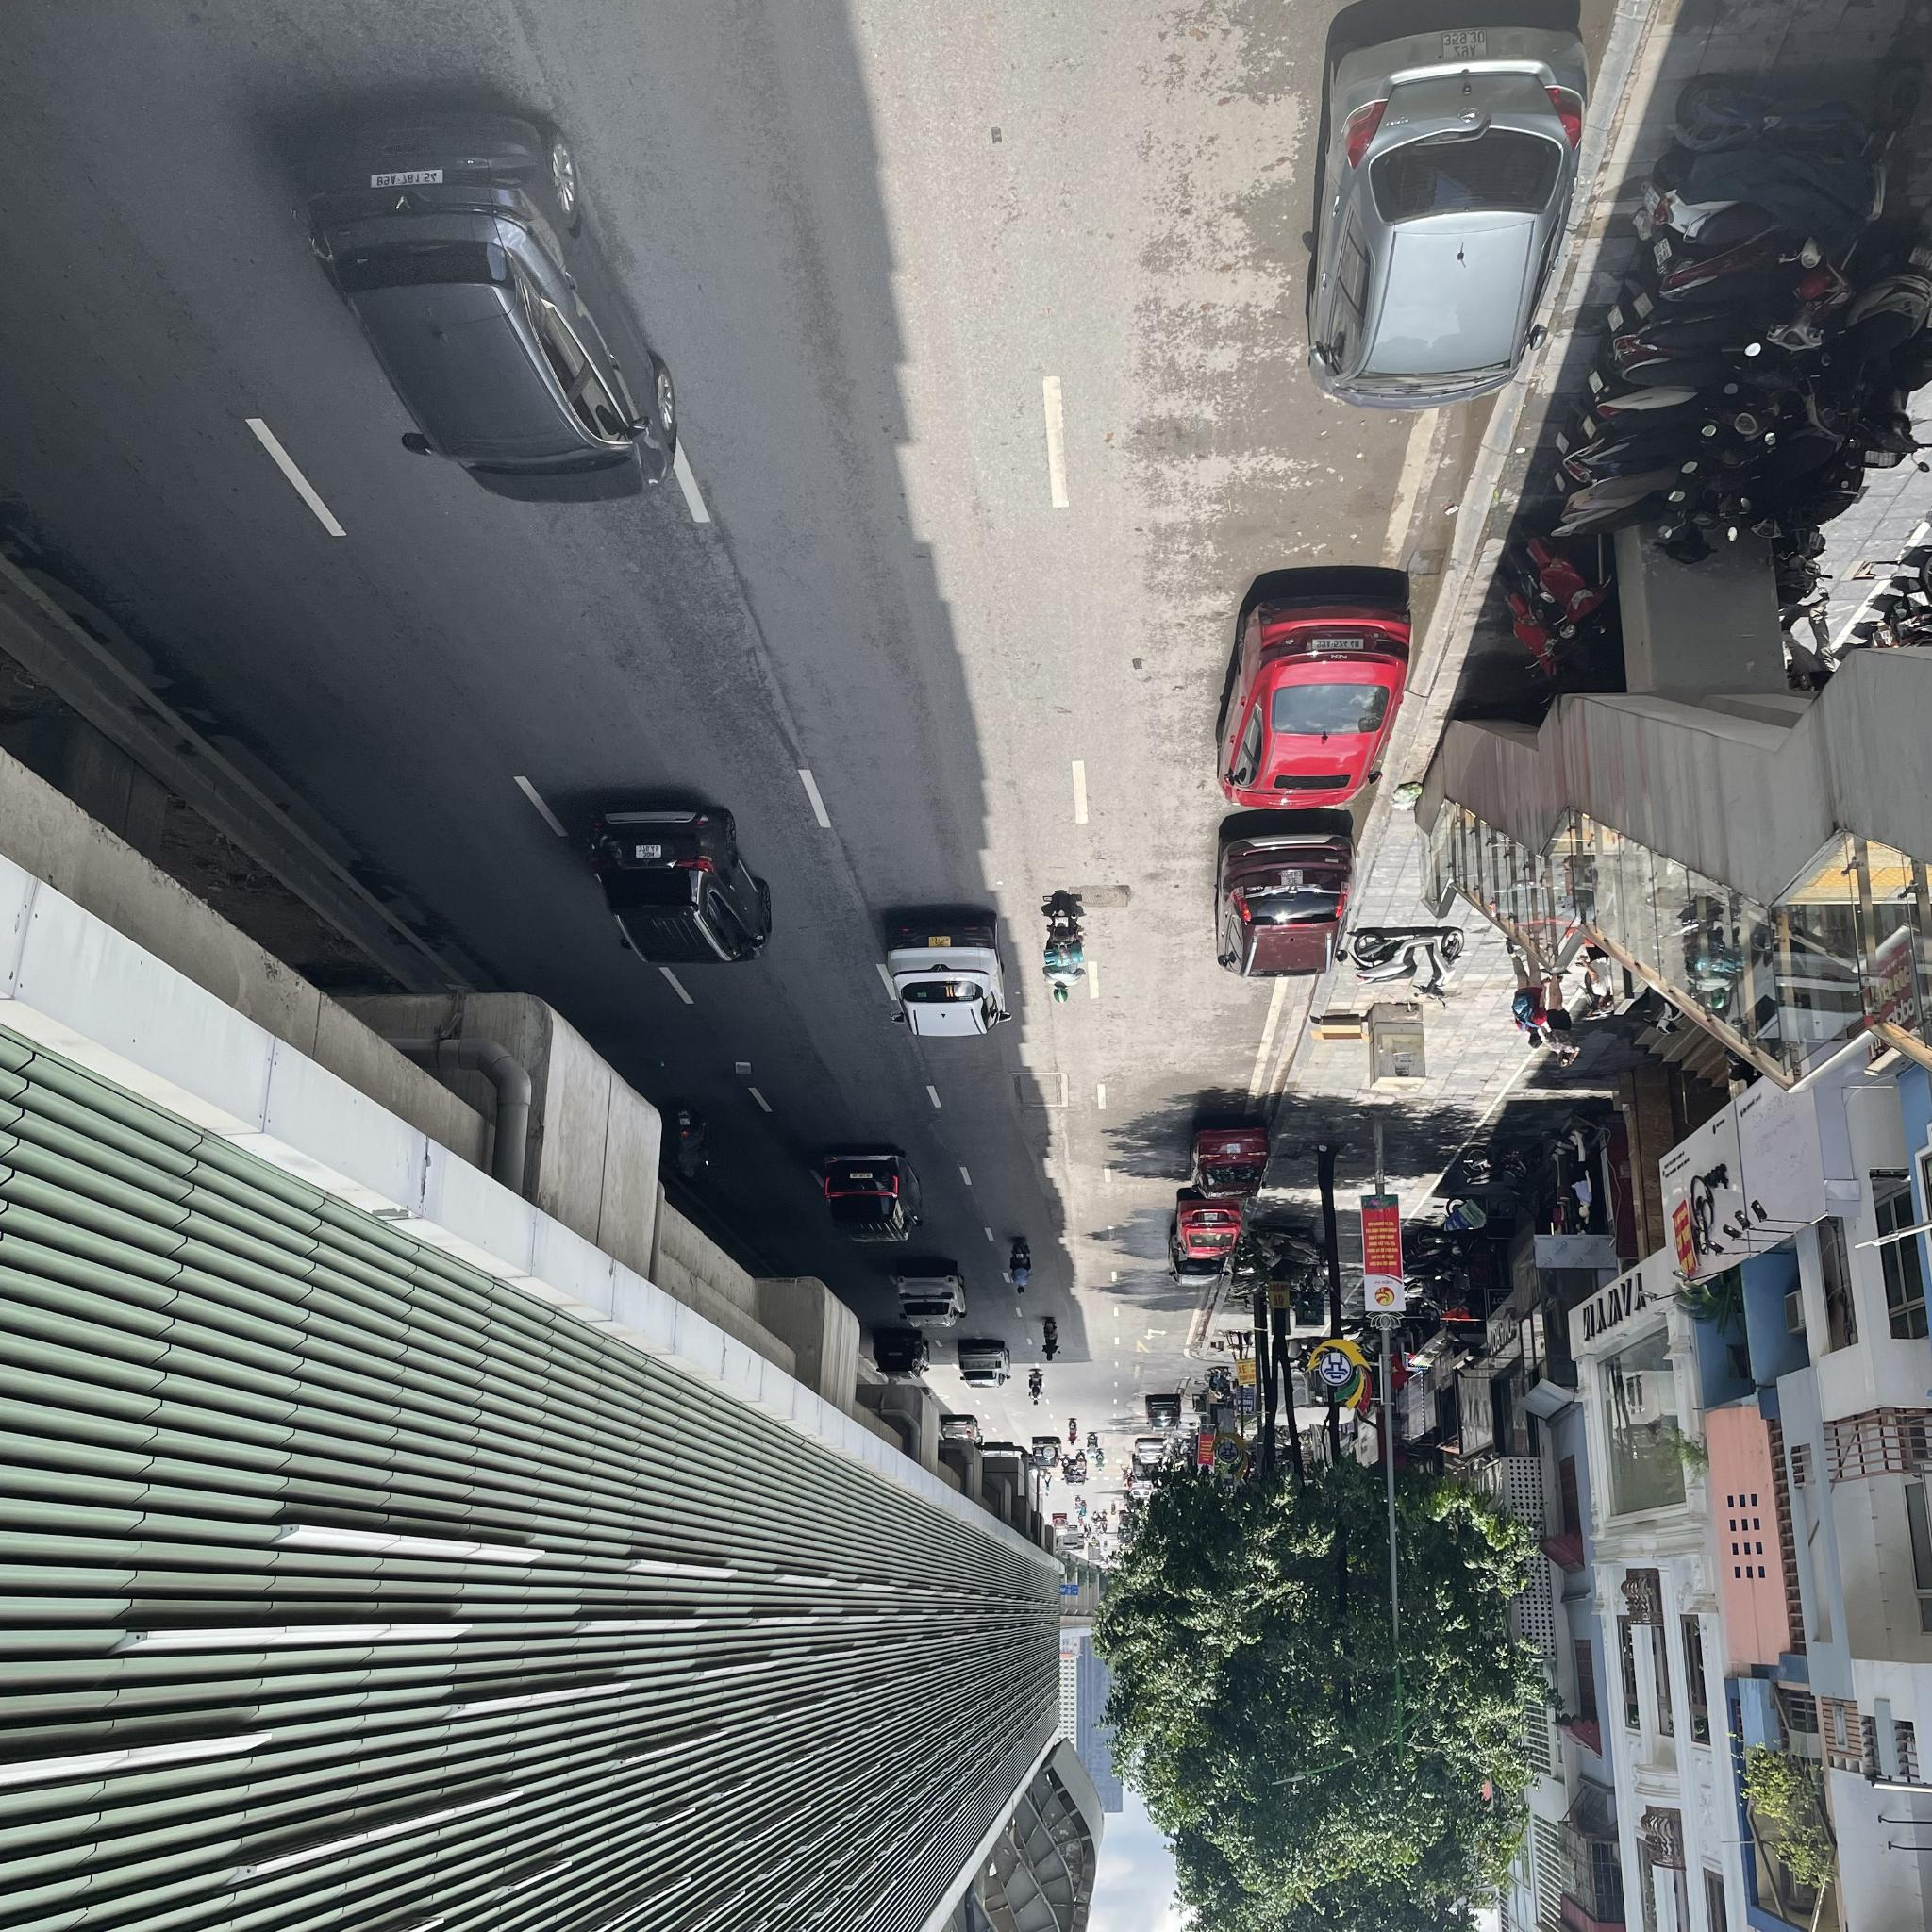car: (288, 90, 678, 501), (1313, 12, 1598, 407), (1224, 570, 1414, 810), (586, 801, 775, 984), (1210, 821, 1353, 985), (878, 904, 1008, 1049), (821, 1146, 925, 1244), (1191, 1120, 1272, 1203), (897, 1258, 966, 1330), (1177, 1191, 1242, 1256), (957, 1341, 1014, 1387)
motobike: (1357, 927, 1460, 1008), (1044, 890, 1088, 1017), (674, 1102, 713, 1182), (1010, 1235, 1033, 1292), (1040, 1315, 1060, 1361), (1030, 1368, 1044, 1405), (1067, 1417, 1077, 1449)
